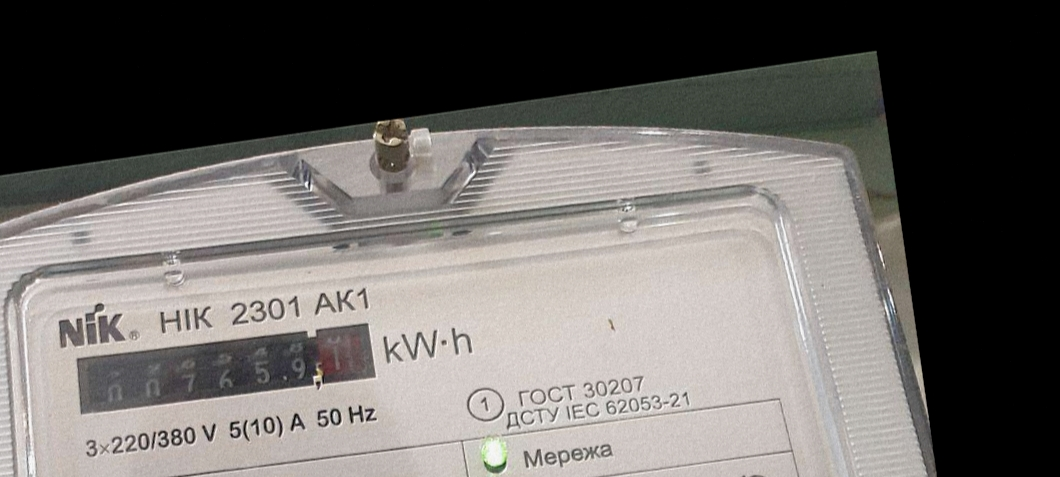0: (141, 374, 163, 401), (103, 378, 124, 406)
1: (327, 341, 345, 374)
5: (248, 356, 274, 386)
6: (213, 364, 235, 391)
7: (176, 369, 200, 397)
9: (286, 353, 308, 382)
screen: (61, 303, 388, 436)
